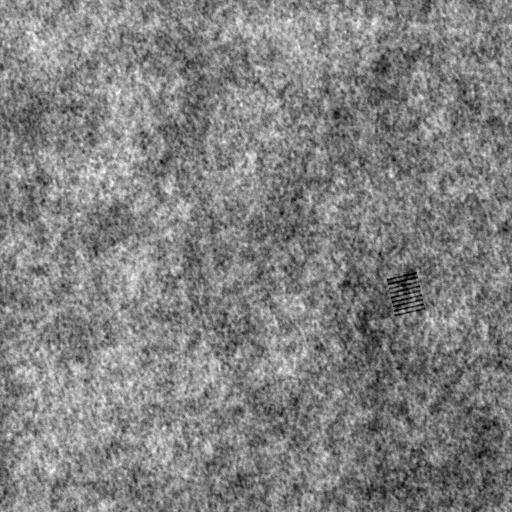DefectTypeB: (389, 272, 427, 315)
